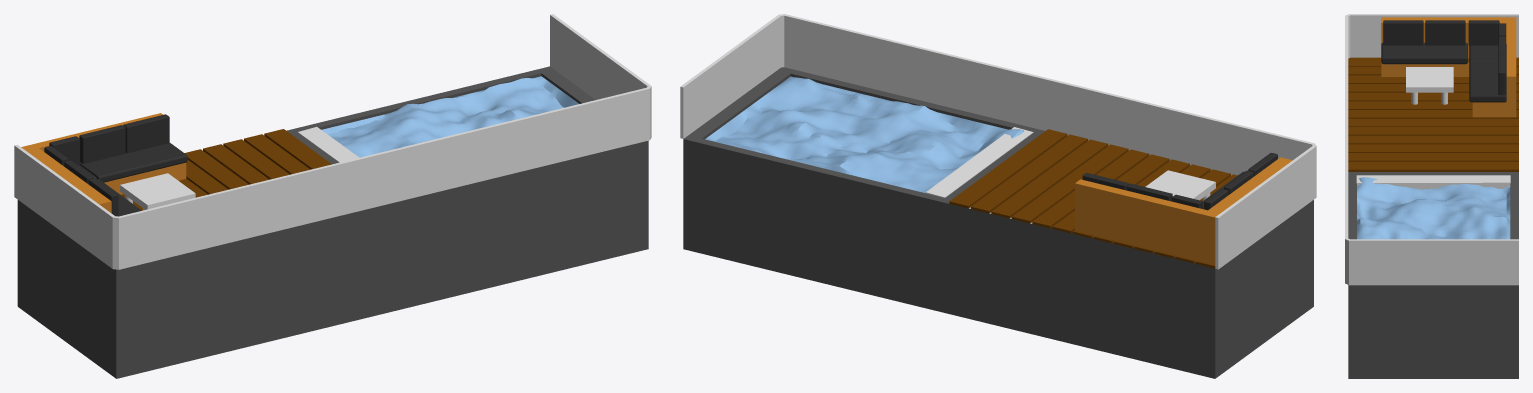
Rendered from luxry life1.fbx.
3 views of the same model, side by side, from view 1: azimuth 30°, elevation 25°; view 2: azimuth 150°, elevation 25°; view 3: azimuth 270°, elevation 25° (orthographic). The views are drawn at different scales.
Visible parts, largest first — view 1: Plane.001, Plane.006, Plane.007, Plane.045, Plane.035, Plane.032, Plane.040, Plane.038, Plane.039, Plane.031, Plane.037; view 2: Plane.001, Plane.006, Plane.007, Plane.045, Plane.032, Plane.031, Plane.040; view 3: Plane.001, Plane.045, Plane.006, Plane.007, Plane.035, Plane.032, Plane.031, Plane.040, Plane.033, Plane.034, Plane.036, Plane.039 (+1 smaller).
Part boxes in pixels (bbox=[...]): Plane.001: bbox=[17, 66, 648, 378]; Plane.006: bbox=[14, 14, 651, 269]; Plane.007: bbox=[321, 76, 578, 157]; Plane.045: bbox=[120, 129, 331, 210]; Plane.035: bbox=[78, 142, 187, 216]; Plane.032: bbox=[21, 113, 186, 213]; Plane.040: bbox=[120, 173, 195, 209]; Plane.038: bbox=[79, 125, 125, 163]; Plane.039: bbox=[123, 114, 169, 153]; Plane.031: bbox=[297, 127, 359, 162]; Plane.037: bbox=[49, 136, 79, 165]; Plane.001: bbox=[683, 67, 1313, 378]; Plane.006: bbox=[680, 14, 1316, 269]; Plane.007: bbox=[705, 76, 1023, 192]; Plane.045: bbox=[949, 129, 1237, 268]; Plane.032: bbox=[1075, 157, 1292, 264]; Plane.031: bbox=[925, 127, 1033, 223]; Plane.040: bbox=[1145, 170, 1215, 200]; Plane.001: bbox=[1348, 172, 1518, 378]; Plane.045: bbox=[1348, 57, 1518, 171]; Plane.006: bbox=[1345, 14, 1518, 285]; Plane.007: bbox=[1357, 177, 1510, 239]; Plane.035: bbox=[1381, 42, 1506, 102]; Plane.032: bbox=[1381, 17, 1516, 117]; Plane.031: bbox=[1356, 175, 1510, 189]; Plane.040: bbox=[1406, 67, 1453, 92]; Plane.033: bbox=[1425, 20, 1465, 45]; Plane.034: bbox=[1383, 20, 1423, 45]; Plane.036: bbox=[1468, 20, 1499, 45]; Plane.039: bbox=[1498, 55, 1505, 95].
Bounding box in the file's own units: 796 × 232 × 258.
